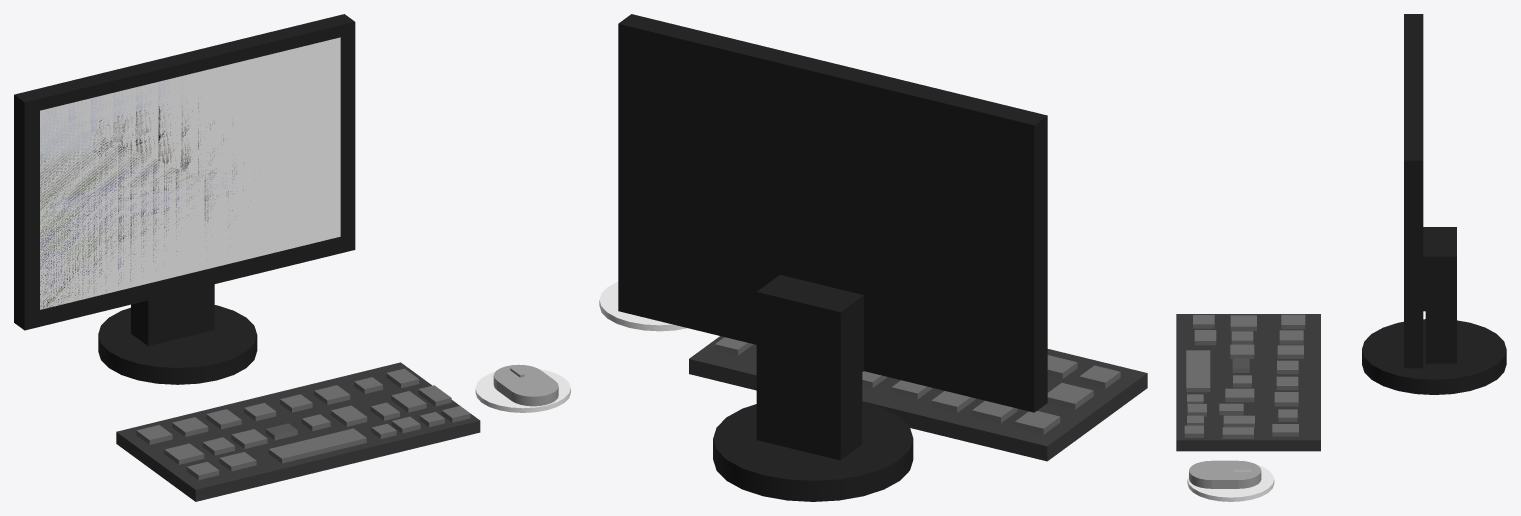
The model's file is computer.obj.
The picture shows the model from 3 angles, left to right: view 1: azimuth 30°, elevation 25°; view 2: azimuth 150°, elevation 25°; view 3: azimuth 270°, elevation 25°; orthographic projection. The views are drawn at different scales.
Visible parts, largest first — view 1: Mesh1 Model, Mesh2 Model, Mesh4 Model, Mesh3 Model; view 2: Mesh1 Model, Mesh2 Model, Mesh3 Model; view 3: Mesh2 Model, Mesh1 Model, Mesh3 Model.
Part boxes in pixels (x1,y1,x2,y2): Mesh1 Model: (14, 14, 355, 384); Mesh2 Model: (116, 362, 480, 501); Mesh4 Model: (40, 76, 243, 309); Mesh3 Model: (475, 364, 570, 412); Mesh1 Model: (618, 14, 1047, 501); Mesh2 Model: (689, 336, 1147, 461); Mesh3 Model: (599, 282, 687, 331); Mesh2 Model: (1176, 314, 1320, 451); Mesh1 Model: (1362, 14, 1506, 394); Mesh3 Model: (1187, 460, 1274, 501).
Size of the model in its own units: 12.11 by 8.31 by 8.56.
7 materials, 1 textured.
